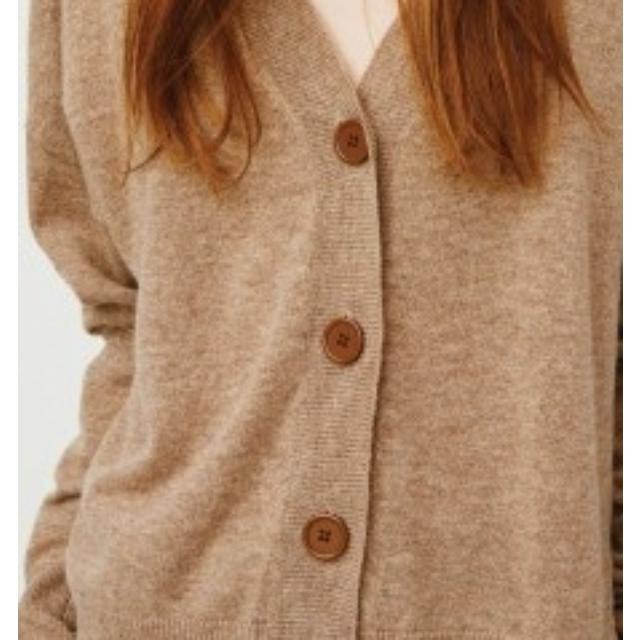linen: (18, 0, 622, 640)
